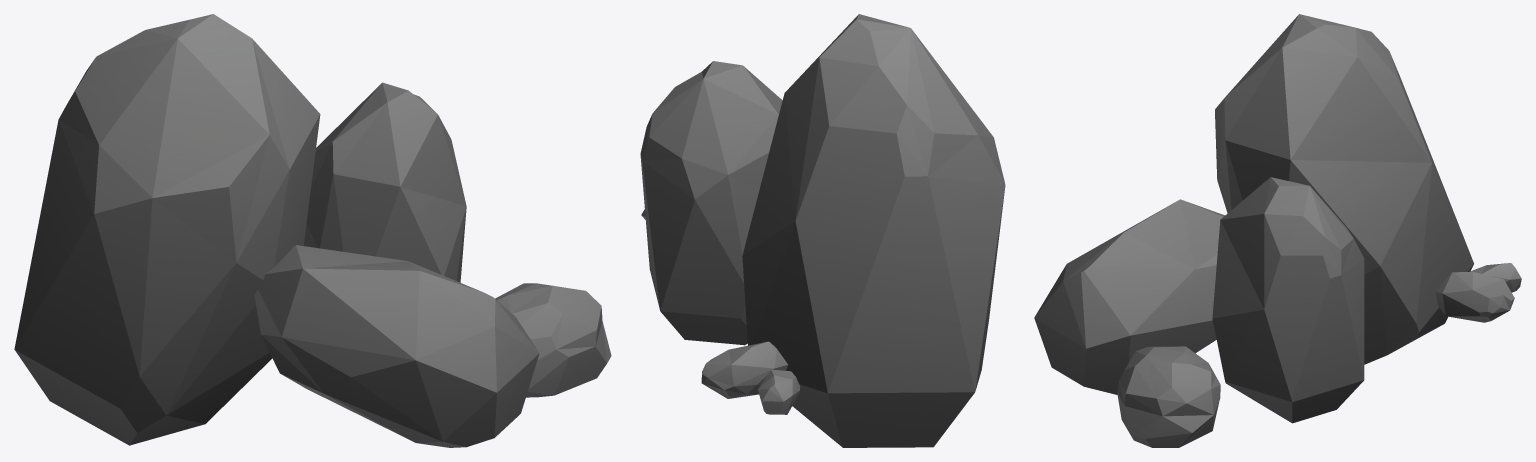
File: rocks_pile.glb
3 renders of one model, left to right at view 1: azimuth 30°, elevation 25°; view 2: azimuth 150°, elevation 25°; view 3: azimuth 270°, elevation 25°, orthographic. The views are drawn at different scales.
Visible parts, largest first — view 1: rocks_merged; view 2: rocks_merged; view 3: rocks_merged.
Part boxes in pixels (x1=…): rocks_merged: x1=14, y1=14, x2=611, y2=447; rocks_merged: x1=640, y1=14, x2=1005, y2=447; rocks_merged: x1=1034, y1=14, x2=1521, y2=447.
Size of the model in its own units: 5.32 by 4.58 by 5.75.
Materials: 1 (1 with a texture image).
